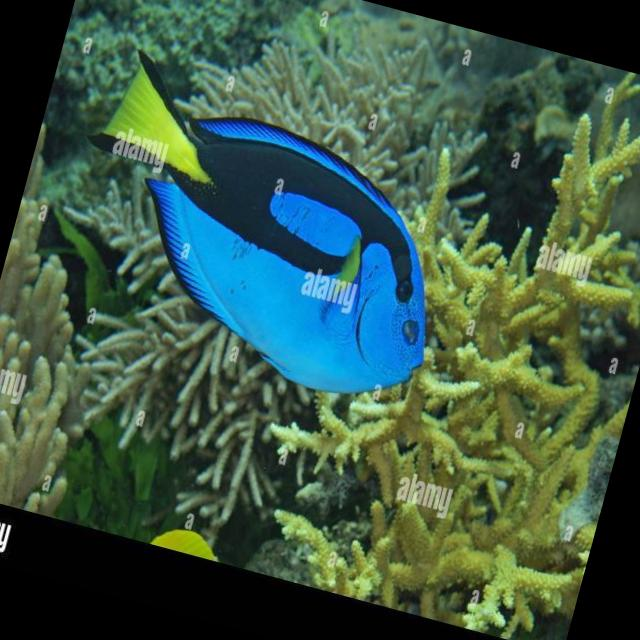TangFish: (49, 41, 482, 416)
